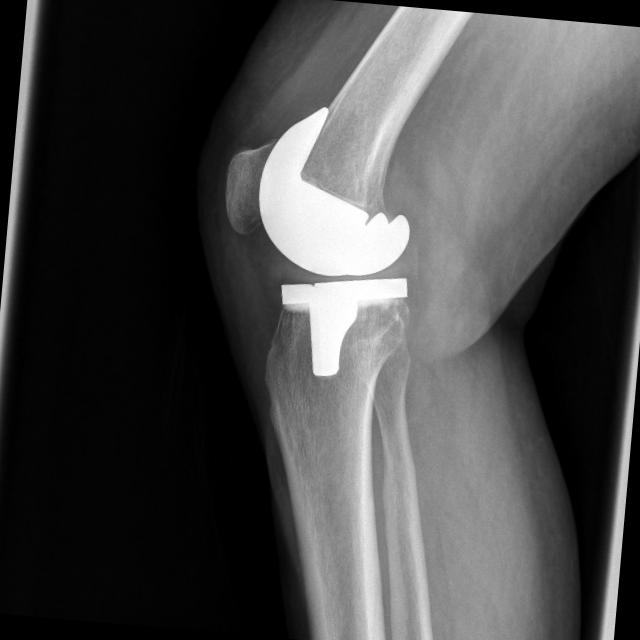Knee: (209, 96, 431, 378)
